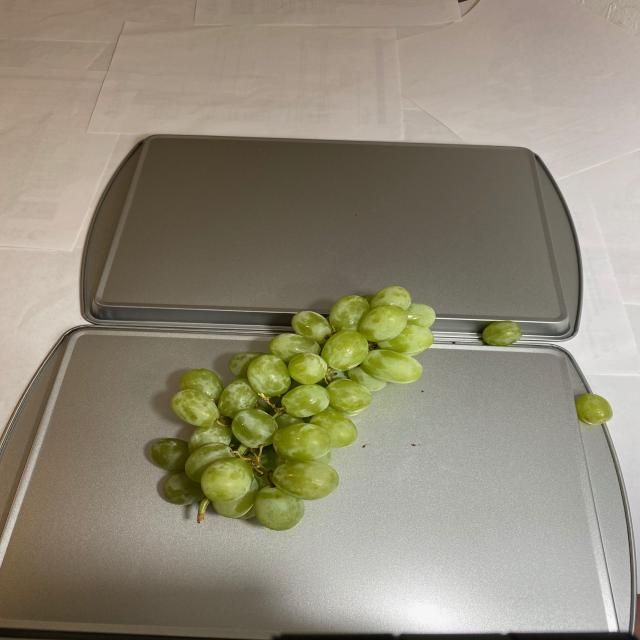Grapes: (146, 291, 443, 530), (571, 390, 618, 425), (478, 320, 522, 346)
